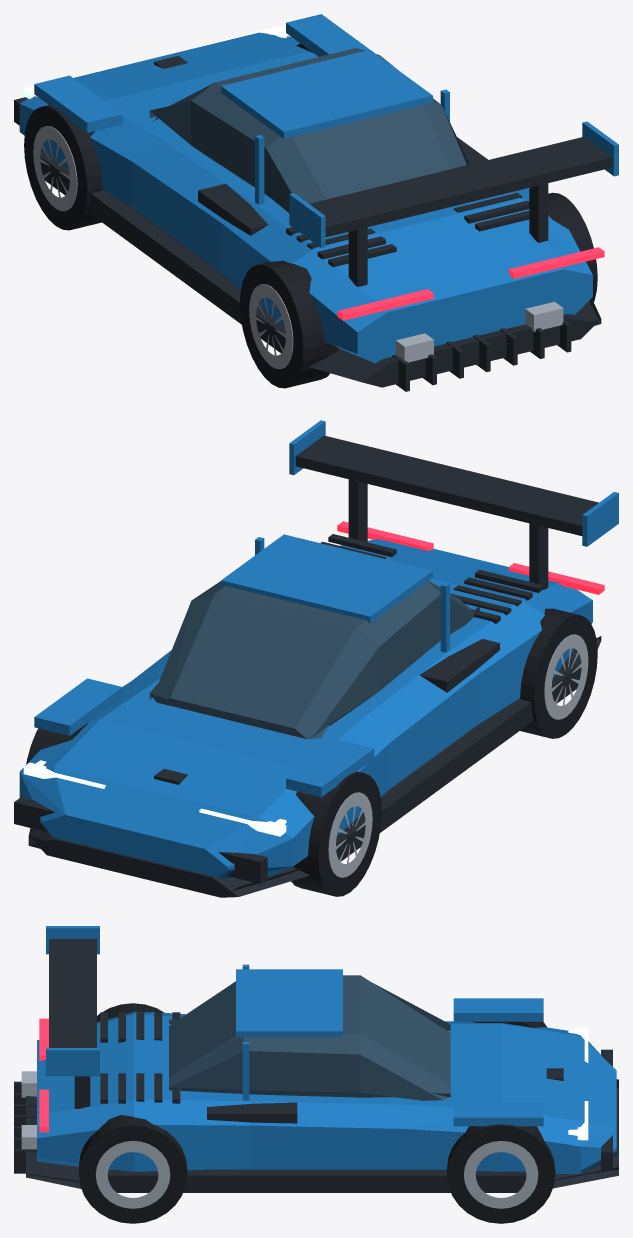
The model's file is coupe_blue.glb.
3 views of the same model, one above another, from view 1: azimuth 30°, elevation 25°; view 2: azimuth 150°, elevation 25°; view 3: azimuth 270°, elevation 25° (orthographic). The views are drawn at different scales.
Visible parts, largest first — view 1: Coachwork, Wheel_RL, Wheel_FL, Wheel_RR; view 2: Coachwork, Wheel_FL, Wheel_RL, Wheel_FR; view 3: Coachwork, Wheel_RR, Wheel_FR, Wheel_RL.
Part boxes in pixels (x1,y1,x2,y2): Coachwork: (14,14,618,391); Wheel_RL: (240,260,338,388); Wheel_FL: (24,105,103,230); Wheel_RR: (548,192,597,301); Coachwork: (14,420,618,897); Wheel_FL: (291,771,381,896); Wheel_RL: (519,608,597,738); Wheel_FR: (26,722,88,763); Coachwork: (14,926,618,1192); Wheel_RR: (79,1115,187,1223); Wheel_FR: (447,1124,555,1223); Wheel_RL: (97,1003,164,1021).
Bounding box in the file's own units: 2.44 × 1.6 × 5.03.
